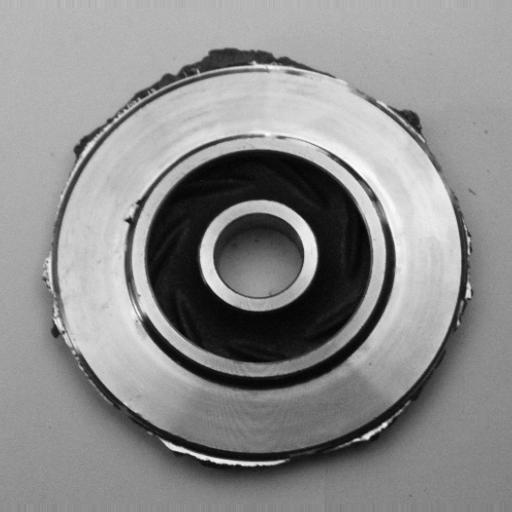casting_with_burr: (37, 44, 475, 480)
crack: (118, 187, 148, 237)
scratch: (253, 126, 346, 160), (123, 280, 156, 346)
